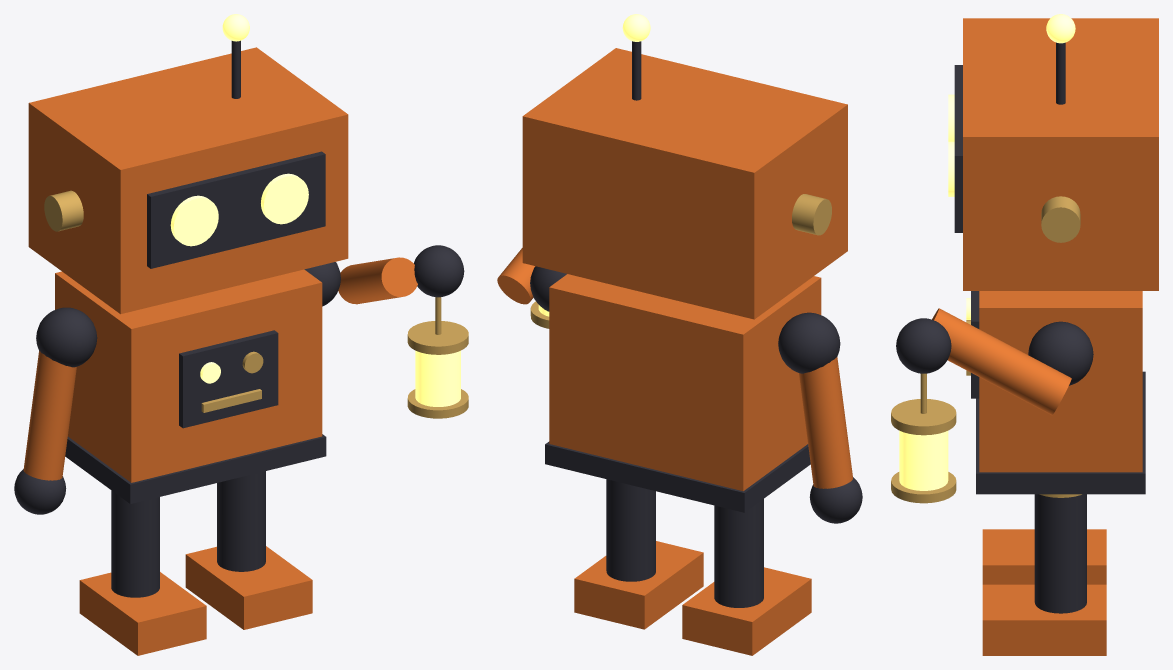
Rendered from card-robot.glb.
The picture shows the model from 3 angles, left to right: view 1: azimuth 30°, elevation 25°; view 2: azimuth 150°, elevation 25°; view 3: azimuth 270°, elevation 25°; orthographic projection. The views are drawn at different scales.
Parts seen in each view (by area): view 1: Lantern robot; view 2: Lantern robot; view 3: Lantern robot.
Part boxes in pixels (x1,y1,x2,y2): Lantern robot: [14, 14, 468, 655]; Lantern robot: [497, 14, 862, 655]; Lantern robot: [891, 14, 1158, 655].
Bounding box in the file's own units: 1.44 × 2.1 × 0.82.
